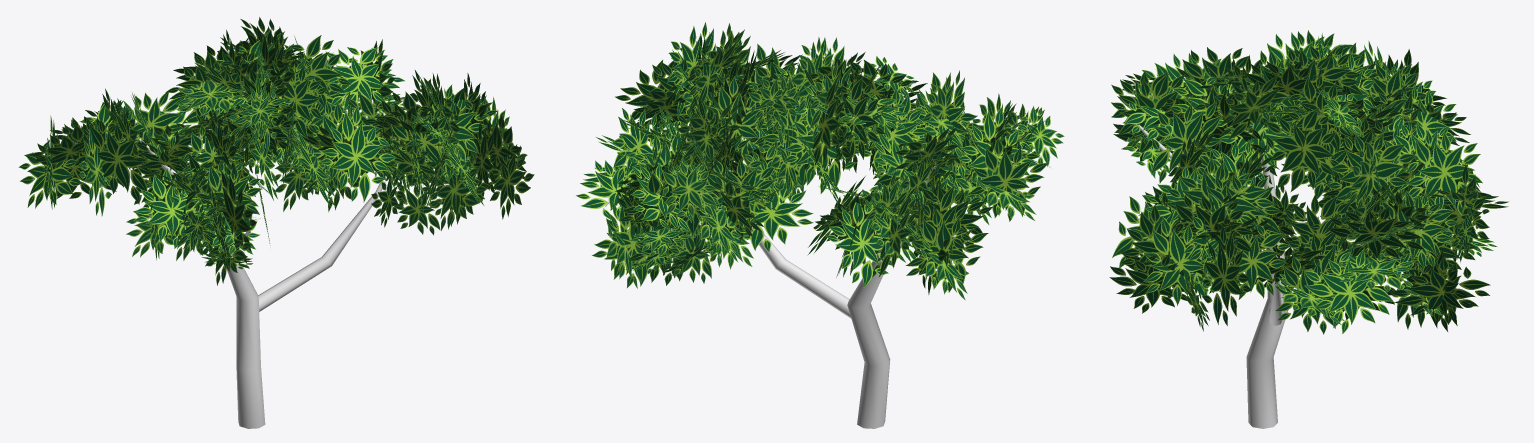
File: Tree3_LOD1.fbx
3 views of the same model, side by side, from view 1: azimuth 30°, elevation 25°; view 2: azimuth 150°, elevation 25°; view 3: azimuth 270°, elevation 25° (orthographic). The views are drawn at different scales.
Parts seen in each view (by area): view 1: Tree3_LOD1; view 2: Tree3_LOD1; view 3: Tree3_LOD1.
Boxes of the visible parts, <box> form: Tree3_LOD1: <box>18,17,534,428</box>; Tree3_LOD1: <box>576,22,1064,428</box>; Tree3_LOD1: <box>1109,30,1508,428</box>.
Bounding box in the file's own units: 1186 × 1027 × 949.
